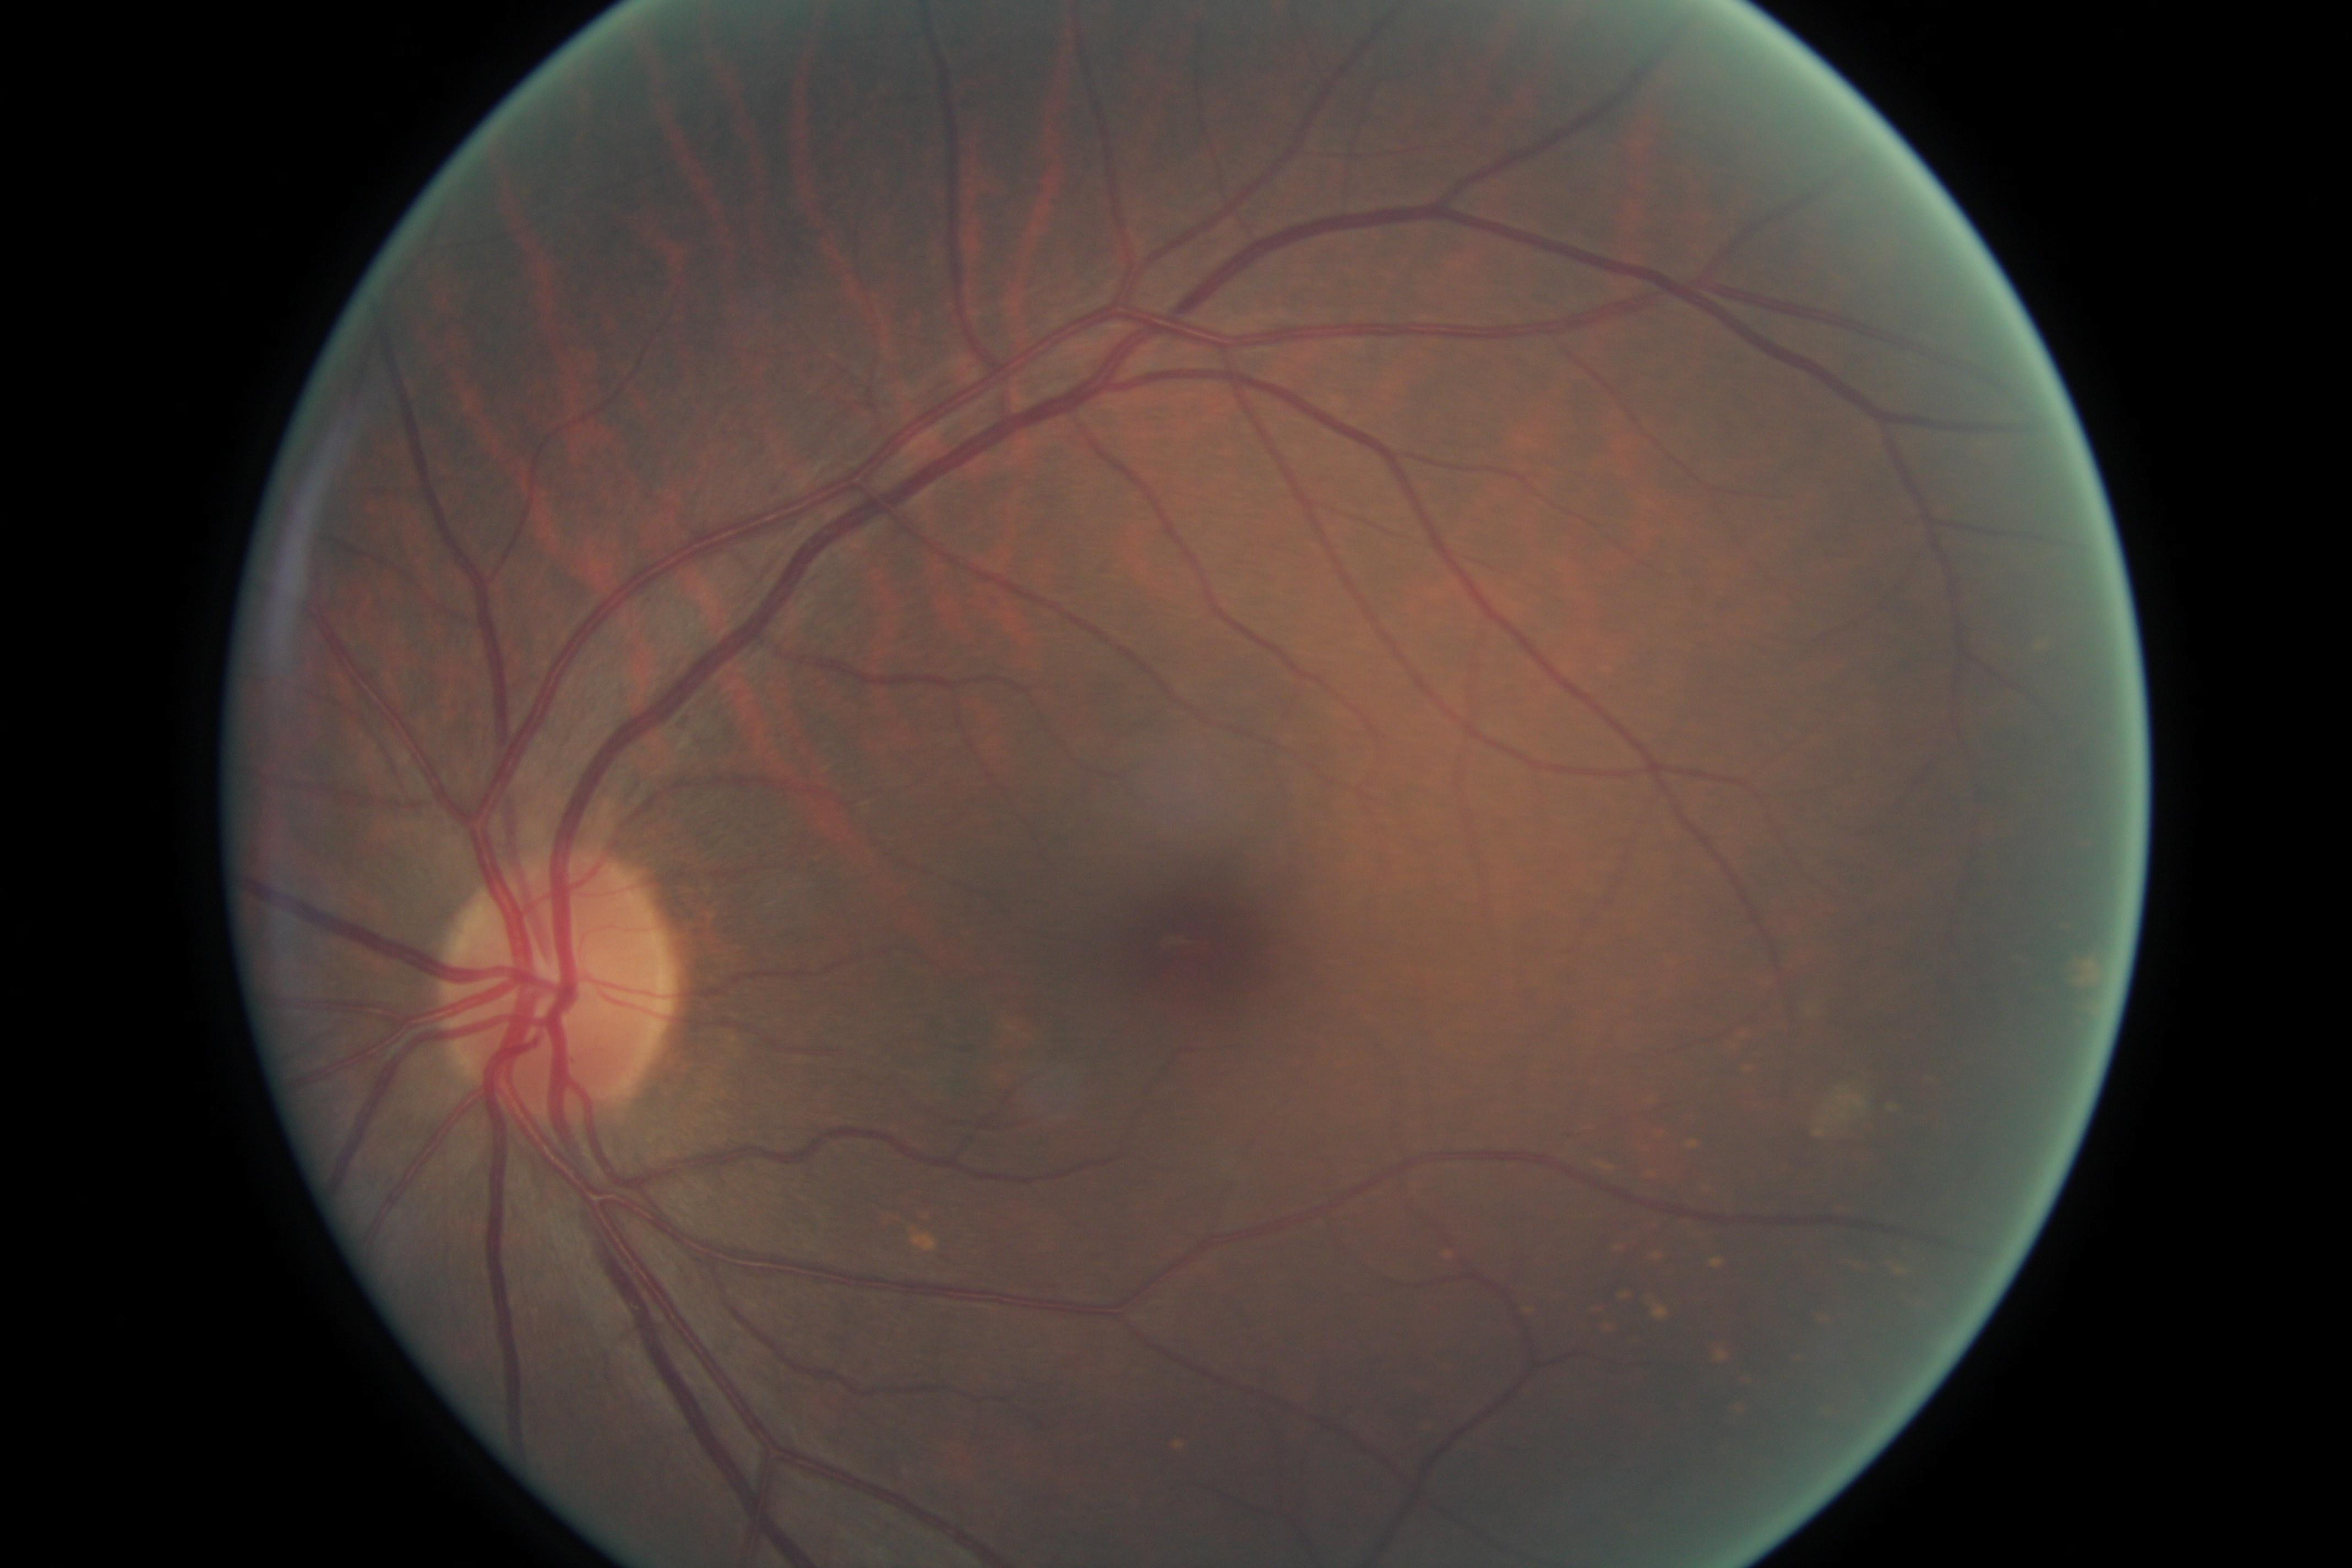Optic-nerve: (446, 854, 665, 1109)
macula: (1046, 828, 1325, 1064)
